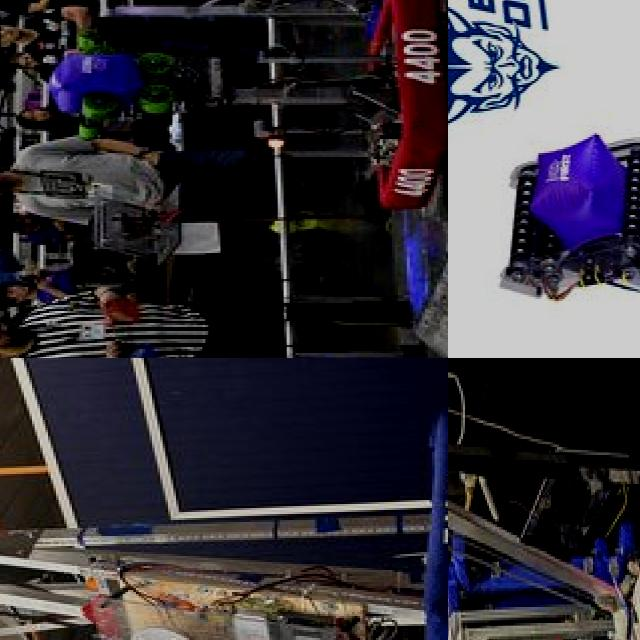FRC-Robots: (0, 388, 448, 640), (48, 0, 420, 172), (487, 44, 640, 358), (448, 400, 640, 640)
